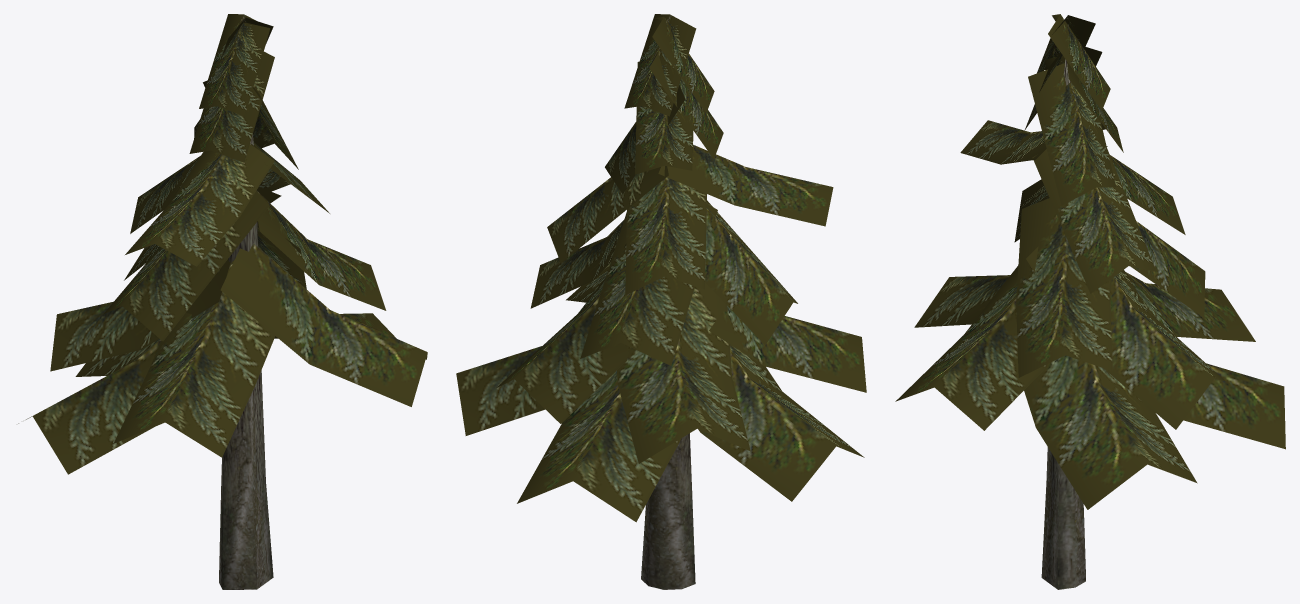
Rendered from tree_k002.FBX.
The picture shows the model from 3 angles, left to right: view 1: azimuth 30°, elevation 25°; view 2: azimuth 150°, elevation 25°; view 3: azimuth 270°, elevation 25°; orthographic projection.
Parts seen in each view (by area): view 1: tree_k002; view 2: tree_k002; view 3: tree_k002.
Part boxes in pixels (left/top/right/bottom): tree_k002: left=18, top=14, right=427, bottom=589; tree_k002: left=456, top=14, right=866, bottom=589; tree_k002: left=895, top=14, right=1285, bottom=589.
Bounding box in the file's own units: 8.87 × 12.59 × 7.92.
2 materials, 2 textured.
